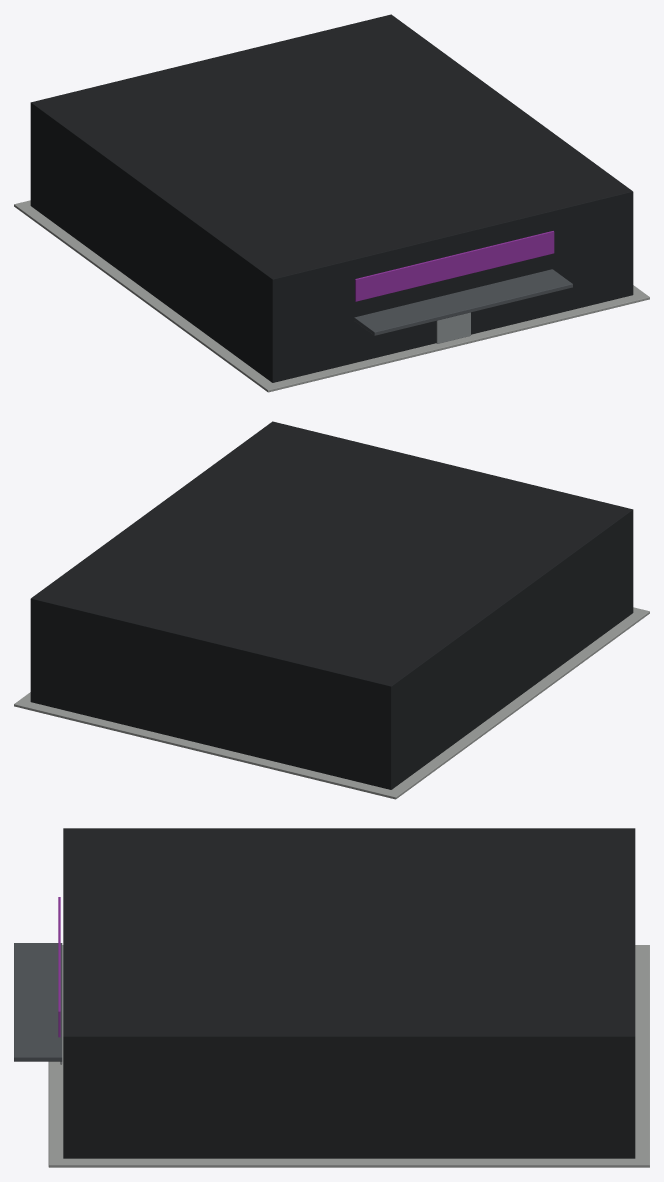
Rendered from Building_Landmark_015.glb.
3 renders of one model, top to bottom at view 1: azimuth 30°, elevation 25°; view 2: azimuth 150°, elevation 25°; view 3: azimuth 270°, elevation 25°, orthographic. The views are drawn at different scales.
Visible parts, largest first — view 1: Building_Landmark_015; view 2: Building_Landmark_015; view 3: Building_Landmark_015.
Part boxes in pixels (left/top/right/bottom): Building_Landmark_015: left=14, top=14, right=649, bottom=392; Building_Landmark_015: left=14, top=421, right=649, bottom=799; Building_Landmark_015: left=14, top=828, right=649, bottom=1167.
Bounding box in the file's own units: 26.96 × 7.16 × 32.88.
